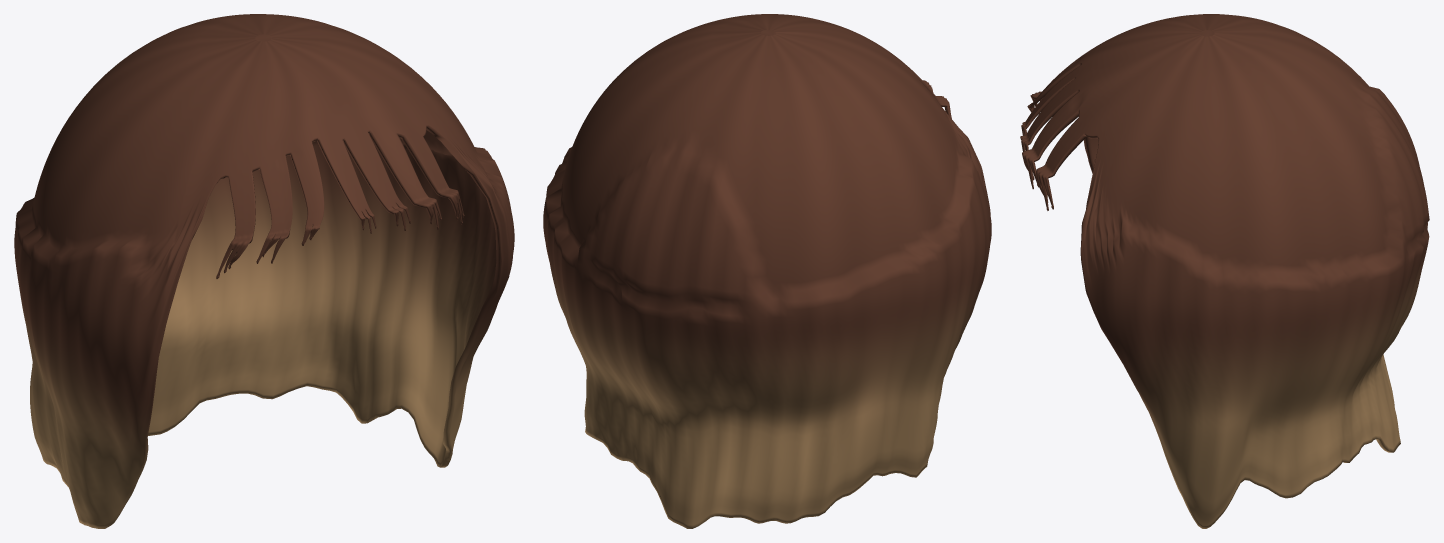
File: side-sweep-cap-ombre.glb
3 renders of one model, left to right at view 1: azimuth 30°, elevation 25°; view 2: azimuth 150°, elevation 25°; view 3: azimuth 270°, elevation 25°, orthographic. The views are drawn at different scales.
Parts seen in each view (by area): view 1: Wispy bangs / continuous crown; view 2: Wispy bangs / continuous crown; view 3: Wispy bangs / continuous crown.
Boxes of the visible parts, left/top/right/bottom form: Wispy bangs / continuous crown: left=14, top=14, right=514, bottom=528; Wispy bangs / continuous crown: left=543, top=14, right=991, bottom=528; Wispy bangs / continuous crown: left=1020, top=14, right=1429, bottom=528.
Bounding box in the file's own units: 0.8388 × 0.8705 × 0.7703.
